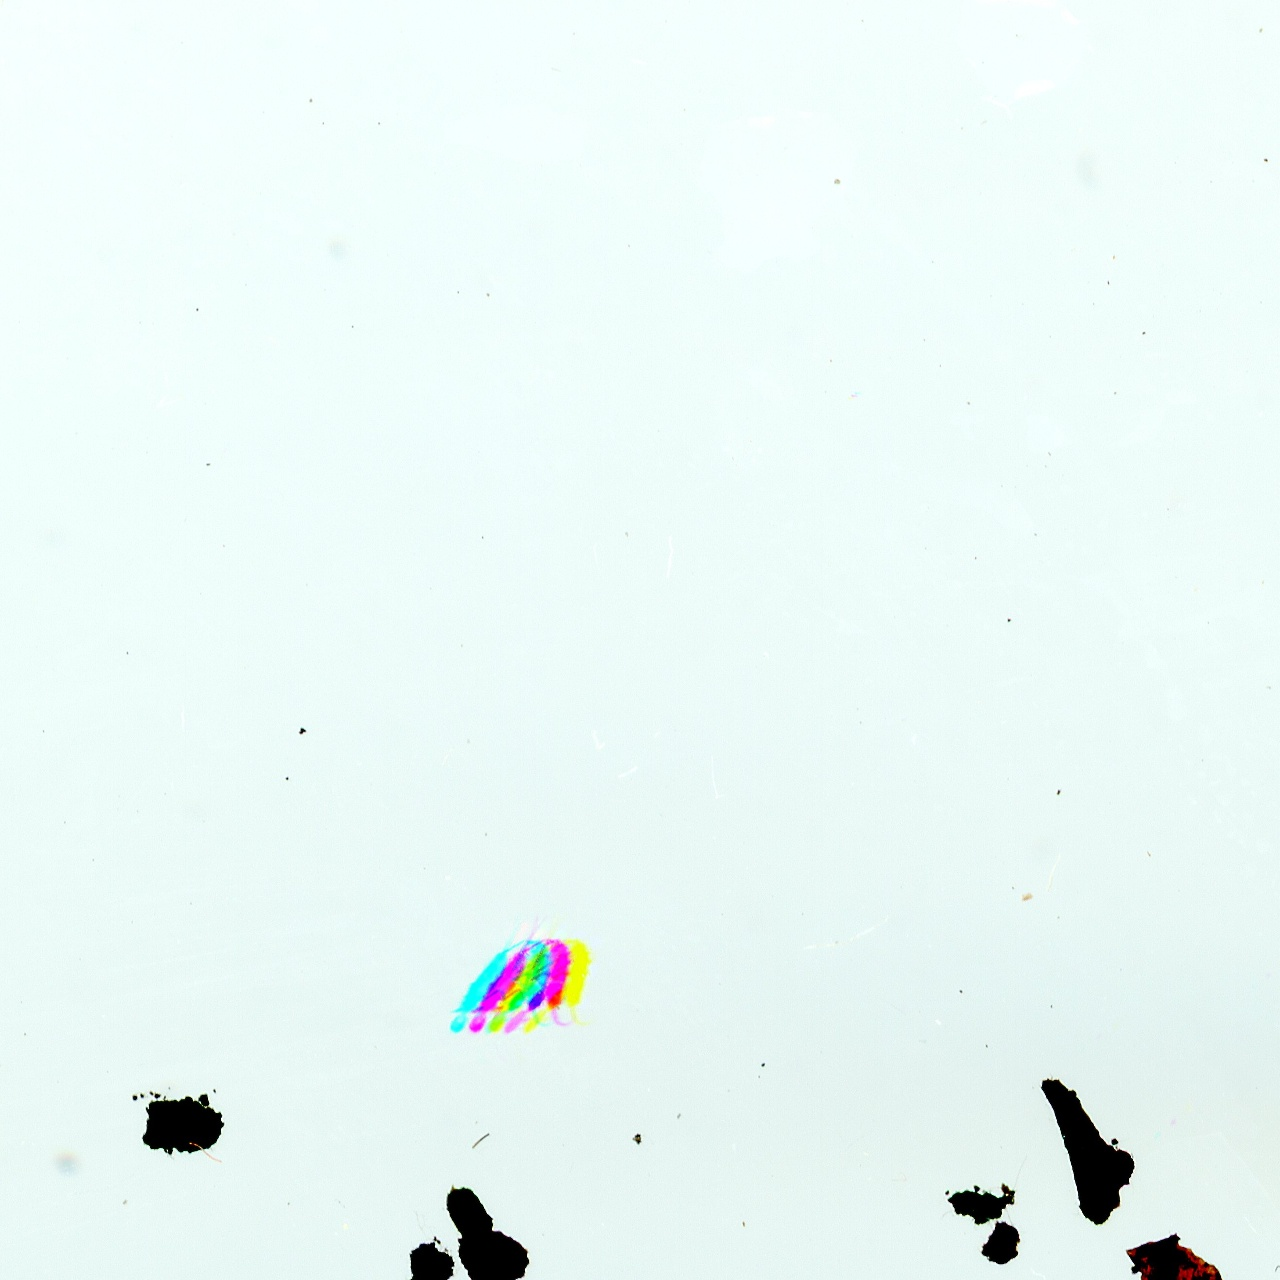arthropod: (465, 940, 527, 1035), (532, 926, 579, 1032)
